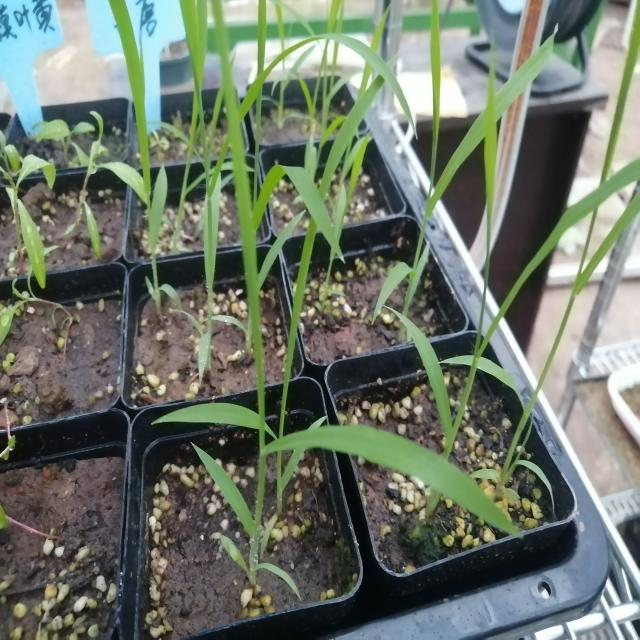crabgrass: (200, 41, 450, 529), (453, 55, 634, 426)
